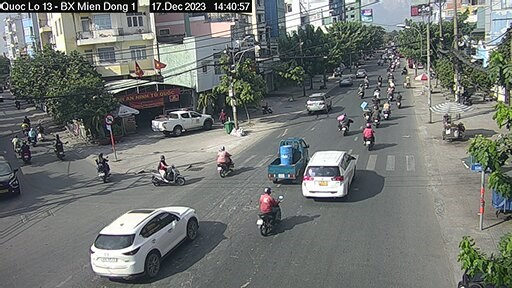car: (98, 206, 198, 273), (308, 149, 355, 196), (152, 108, 215, 138), (303, 91, 335, 114), (339, 73, 358, 90), (356, 67, 366, 77)
motorbike: (149, 157, 189, 188), (255, 192, 283, 233), (215, 147, 243, 177), (89, 154, 113, 178), (49, 129, 67, 159), (337, 110, 353, 137), (364, 123, 378, 150)
